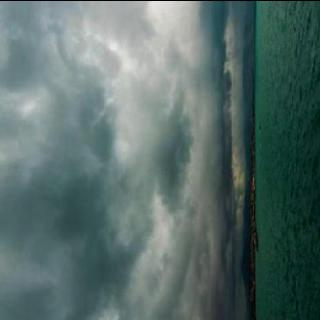Stratus: (0, 0, 258, 320)
